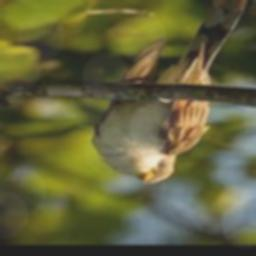Cuckoo: (93, 0, 245, 183)
